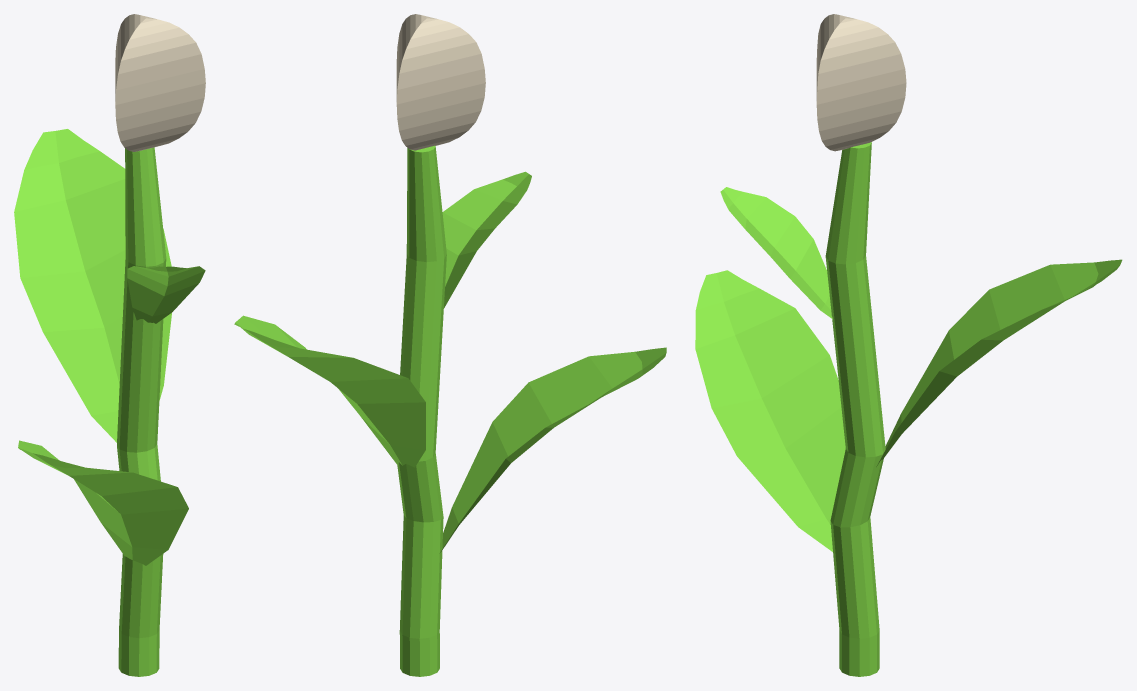
The model's file is stage1.fbx.
3 views of the same model, side by side, from view 1: azimuth 30°, elevation 25°; view 2: azimuth 150°, elevation 25°; view 3: azimuth 270°, elevation 25° (orthographic).
Visible parts, largest first — view 1: Sphere; view 2: Sphere; view 3: Sphere.
Boxes of the visible parts, x1=… form: Sphere: x1=14, y1=14, x2=205, y2=676; Sphere: x1=234, y1=14, x2=666, y2=676; Sphere: x1=695, y1=14, x2=1122, y2=676.
Size of the model in its own units: 132 by 307 by 183.
